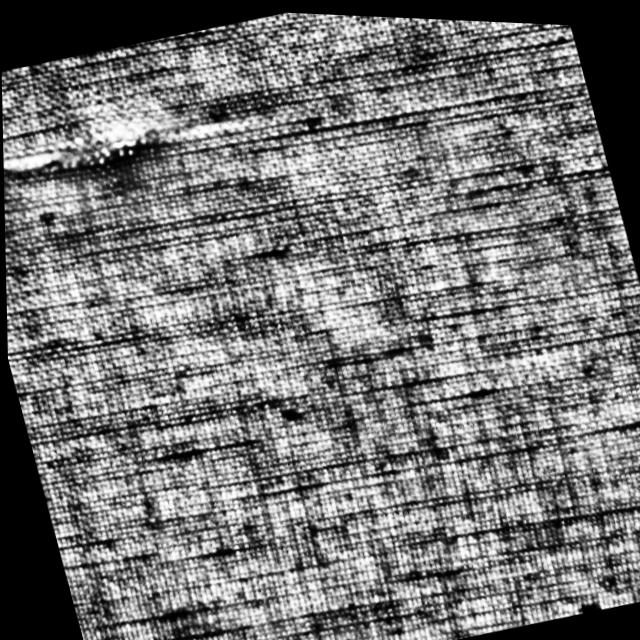Stitch: (2, 94, 201, 231)
